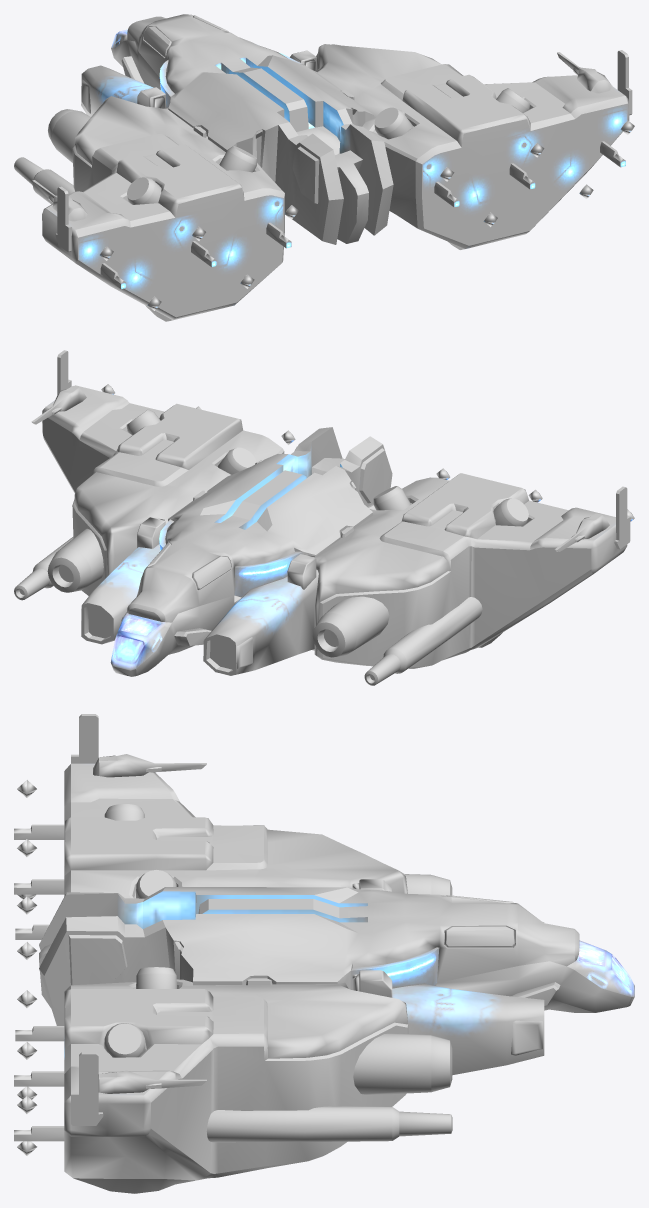
The model's file is tartarus.glb.
3 renders of one model, top to bottom at view 1: azimuth 30°, elevation 25°; view 2: azimuth 150°, elevation 25°; view 3: azimuth 270°, elevation 25°, orthographic. The views are drawn at different scales.
Visible parts, largest first — view 1: ship_tartarus; view 2: ship_tartarus; view 3: ship_tartarus.
Boxes of the visible parts, x1,y1,x2,y2 form: ship_tartarus: (14, 14, 632, 321); ship_tartarus: (14, 350, 630, 685); ship_tartarus: (14, 714, 634, 1193).
Bounding box in the file's own units: 132 × 37.73 × 102.
